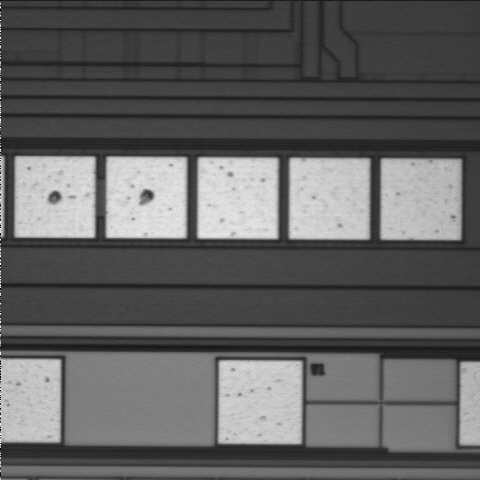pad: (219, 361, 302, 444), (15, 157, 95, 238), (106, 157, 186, 238), (198, 158, 278, 239), (289, 158, 369, 239), (381, 160, 460, 239)
